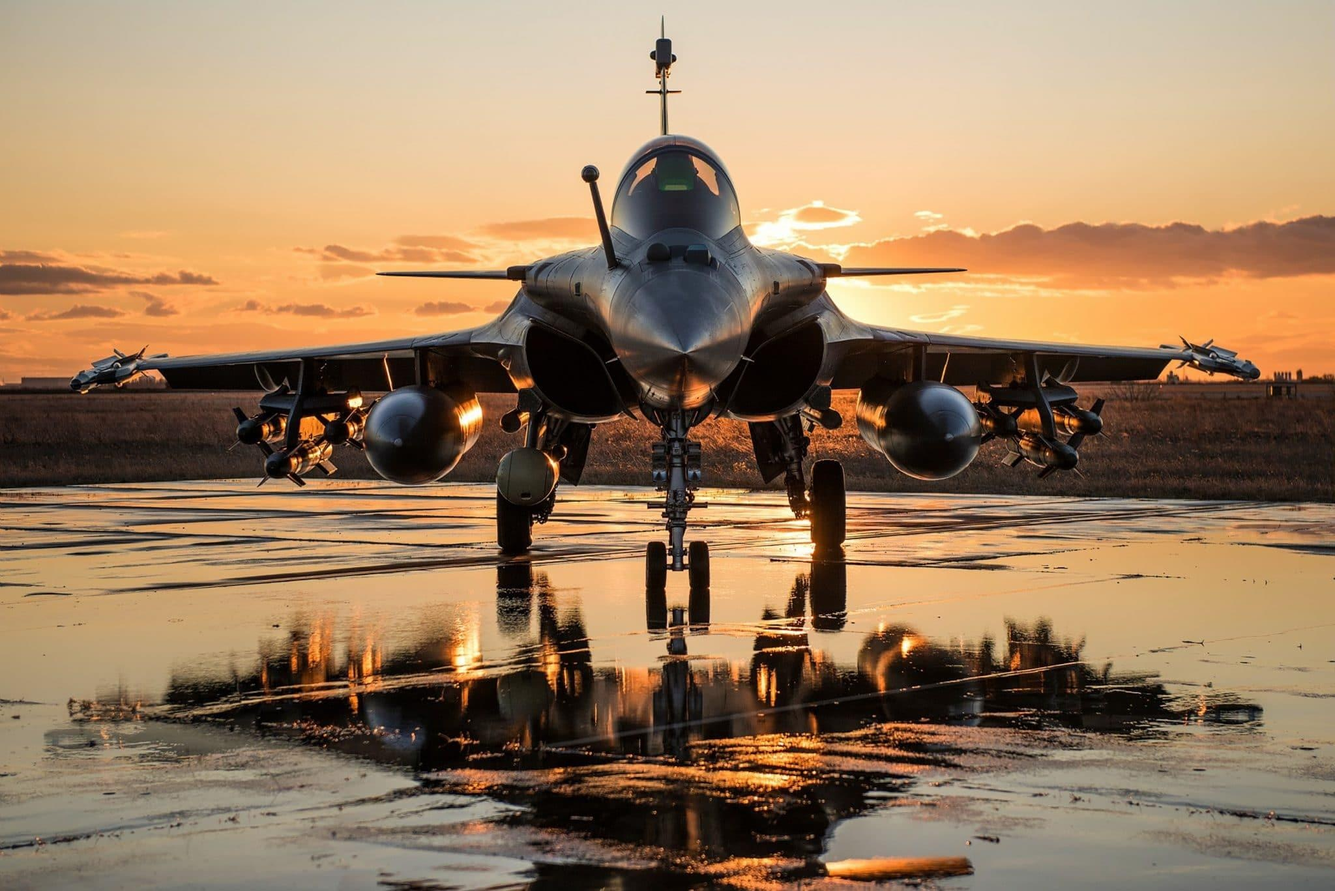aircraft: (0, 50, 1328, 508)
